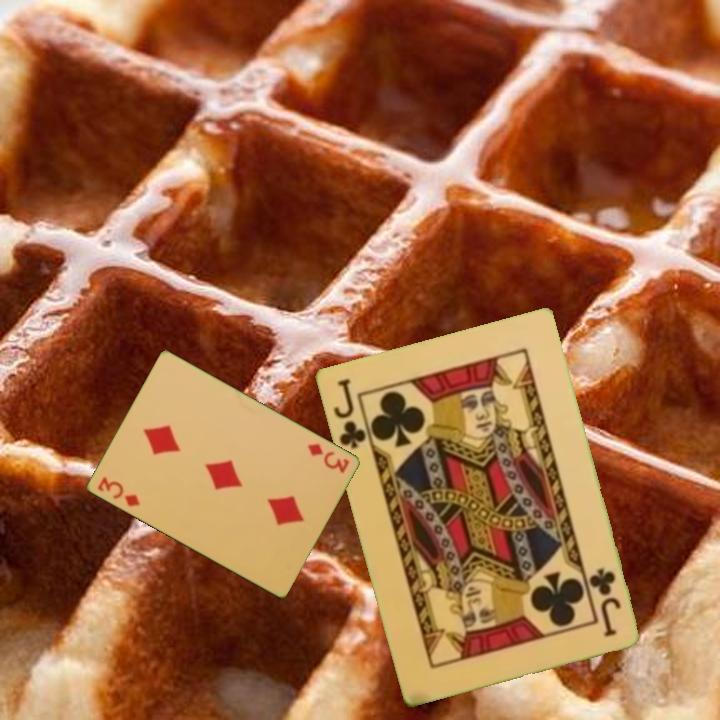3d: (93, 473, 142, 510), (303, 440, 352, 476)
Jc: (329, 374, 369, 452), (585, 564, 623, 640)
